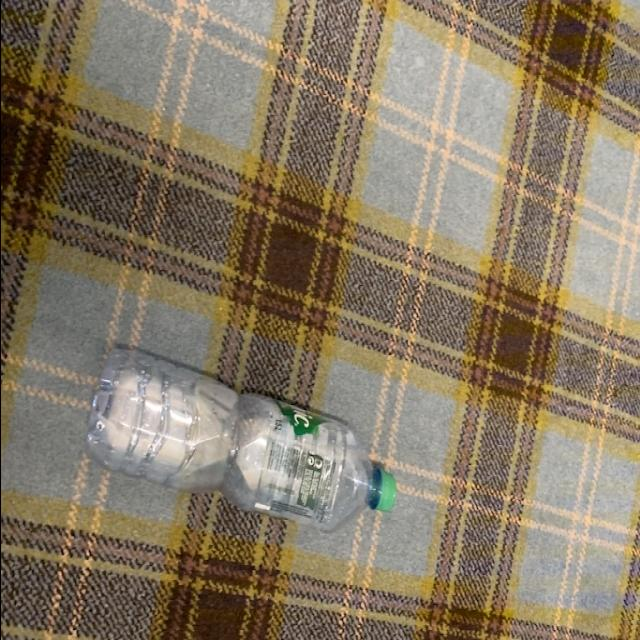litter: (81, 338, 396, 538)
